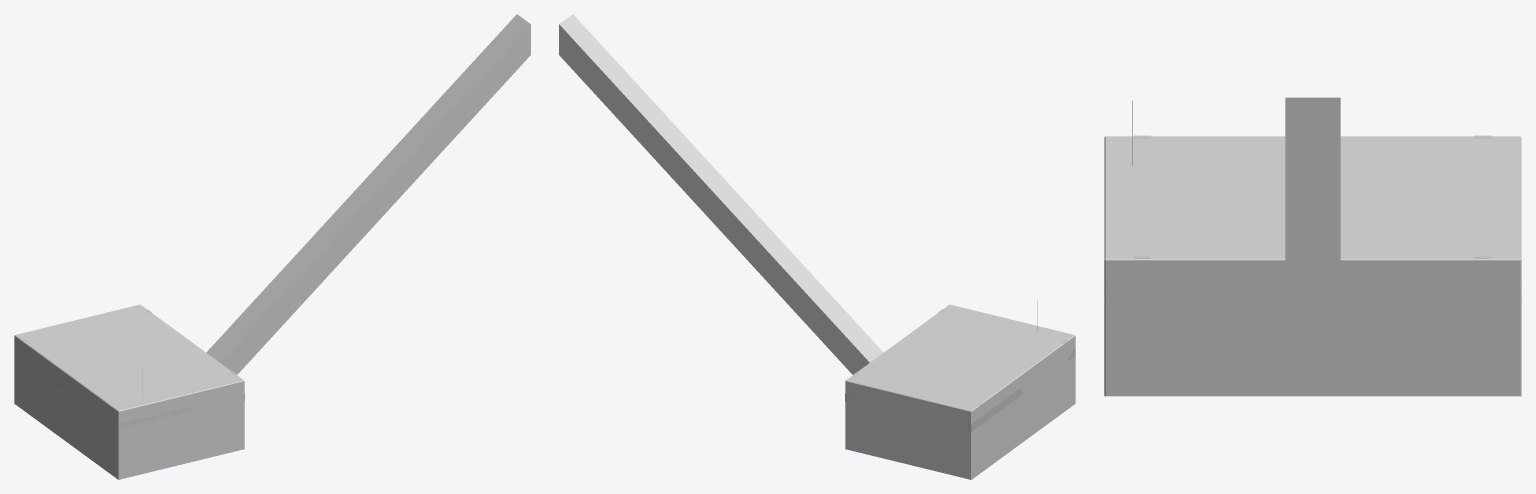
Rendered from Basement Room.fbx.
The picture shows the model from 3 angles, left to right: view 1: azimuth 30°, elevation 25°; view 2: azimuth 150°, elevation 25°; view 3: azimuth 270°, elevation 25°; orthographic projection. The views are drawn at different scales.
Visible parts, largest first — view 1: Basement Room-1, Staircase, Pillar Horizontal; view 2: Basement Room-1, Staircase, Pillar Horizontal; view 3: Basement Room-1, Stairs, Staircase.
Boxes of the visible parts, x1,y1,x2,y2 form: Basement Room-1: (14,304,244,479); Staircase: (206,14,530,374); Pillar Horizontal: (33,368,244,431); Basement Room-1: (845,304,1075,479); Staircase: (559,14,883,374); Pillar Horizontal: (845,348,1075,431); Basement Room-1: (1104,136,1521,396); Stairs: (1285,159,1340,396); Staircase: (1285,97,1340,159).
Size of the model in its own units: 15.64 by 6.18 by 10.16.
